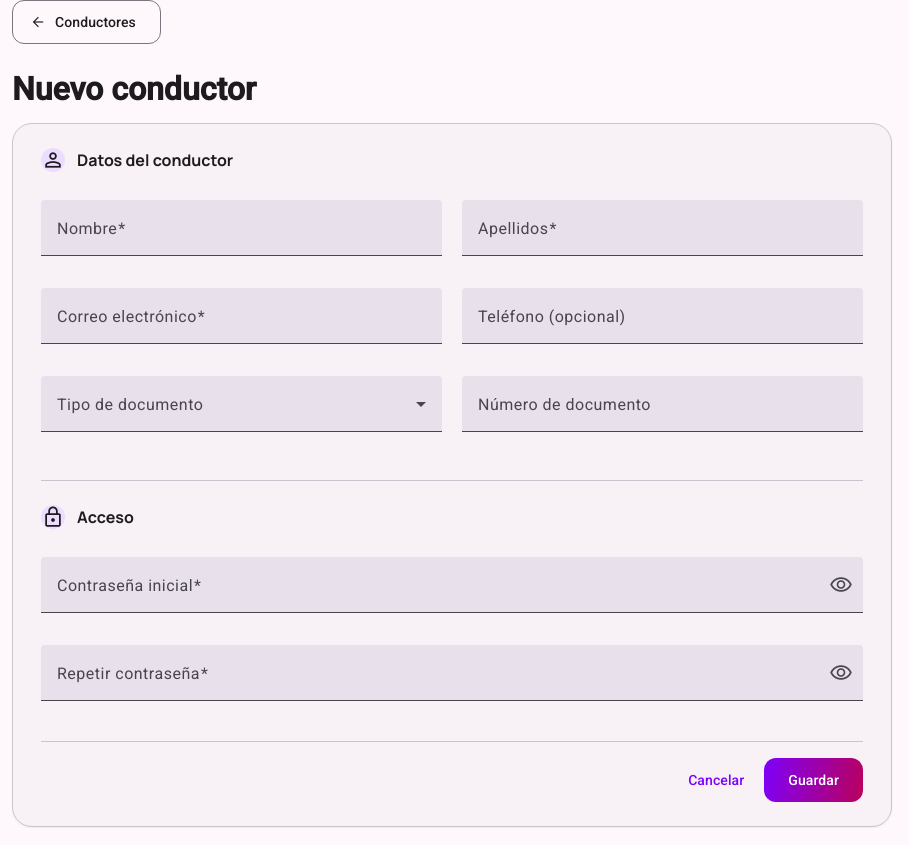
Test: DriverFormComponent › alta › sin repetir la contraseña no se envía
The width and height of the screenshot is (909, 845).
Type "Postman" into the field named "firstName" at coordinates (242, 236), box [57, 224, 426, 248]
Type "Driver" into the field named "lastName" at coordinates (662, 236), box [478, 224, 847, 248]
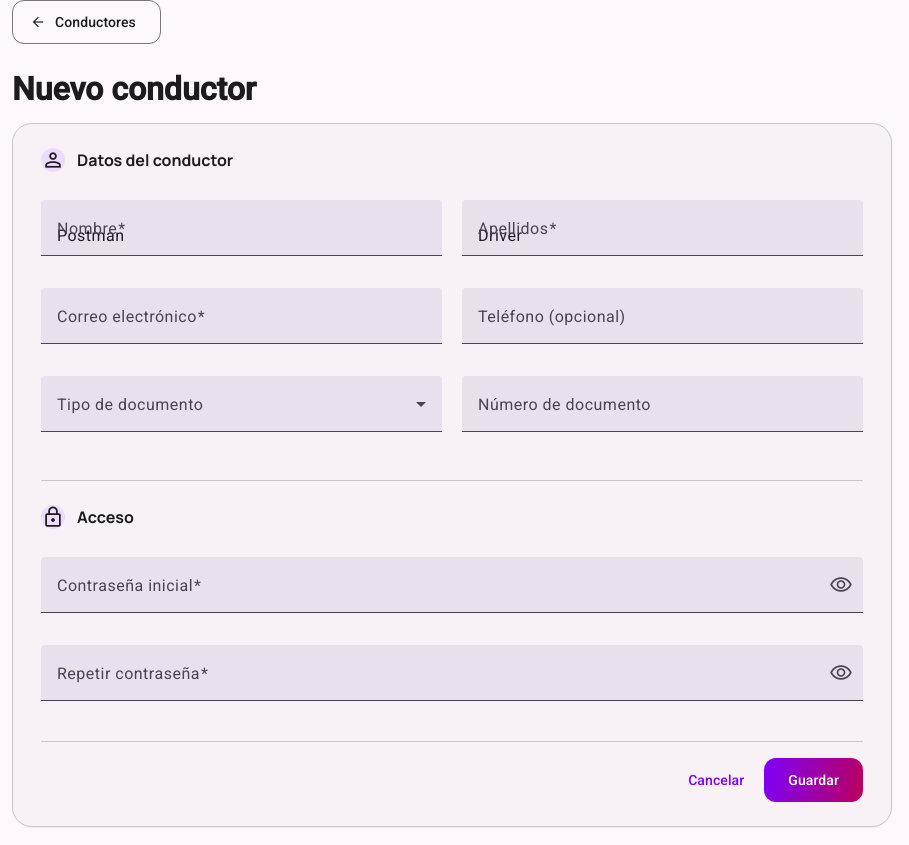
Type "driver-postman-5f6f1325079242c7807dd3c411677b3c@example.invalid" into the field named "email" at coordinates (242, 324), box [57, 312, 426, 336]
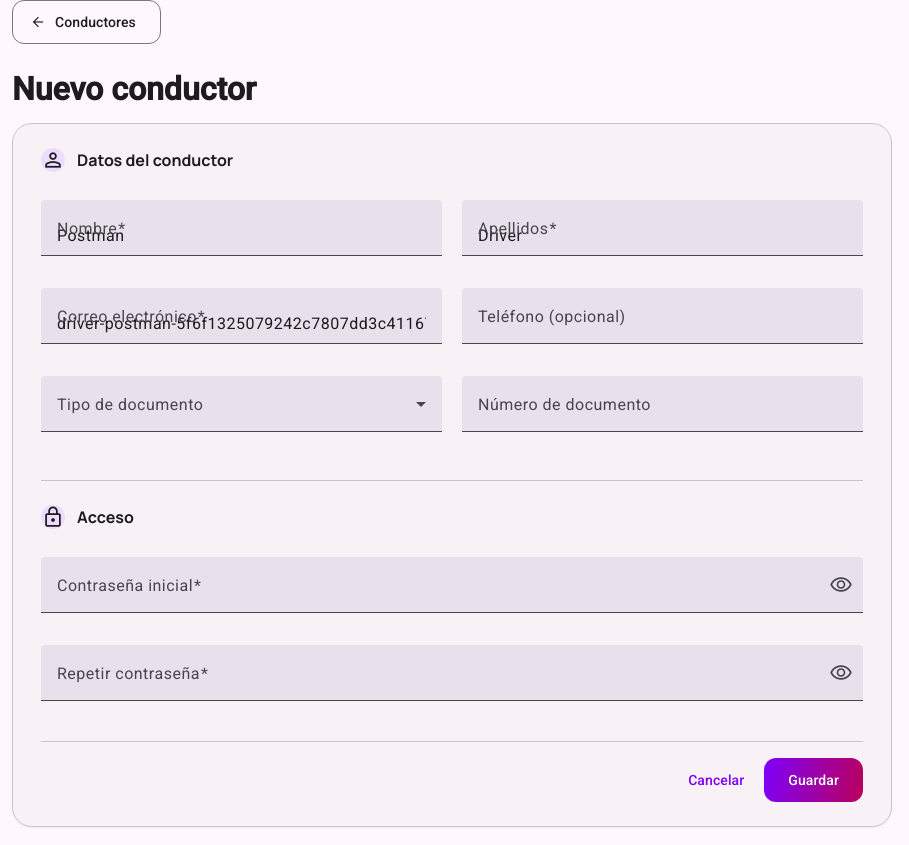
Type "contraseña-ficticia" into the password field labelled "Contraseña inicial" at coordinates (436, 593), box [57, 581, 815, 605]
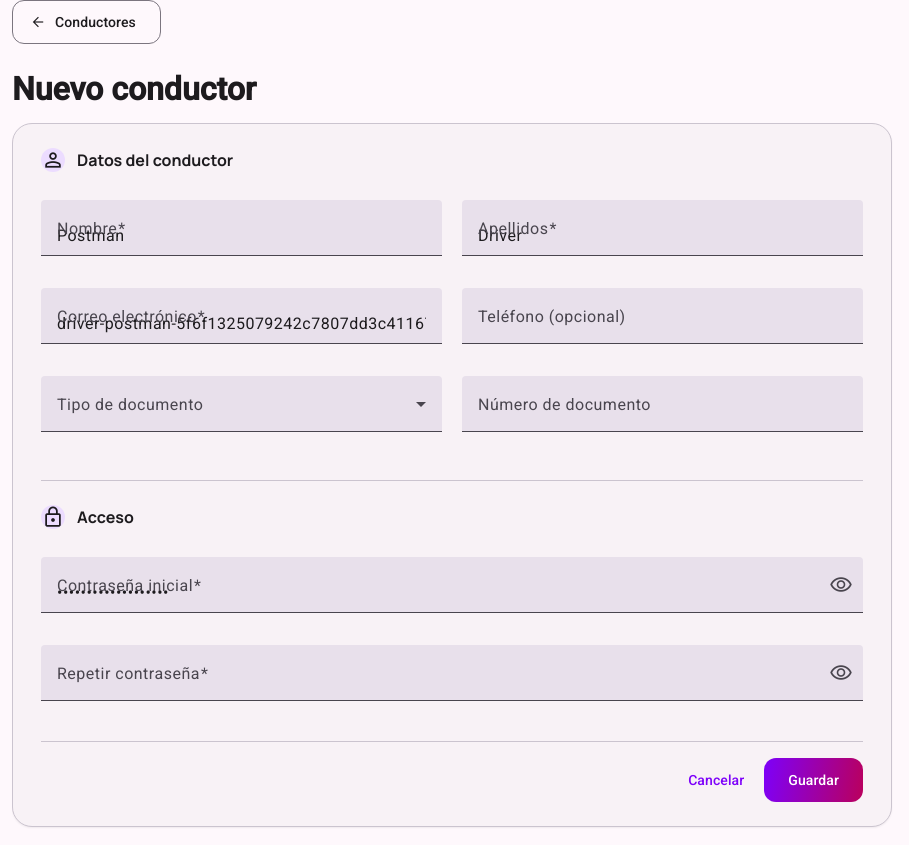
Type "contraseña-ficticia" into the password field labelled "Repetir contraseña" at coordinates (436, 681), box [57, 669, 815, 693]
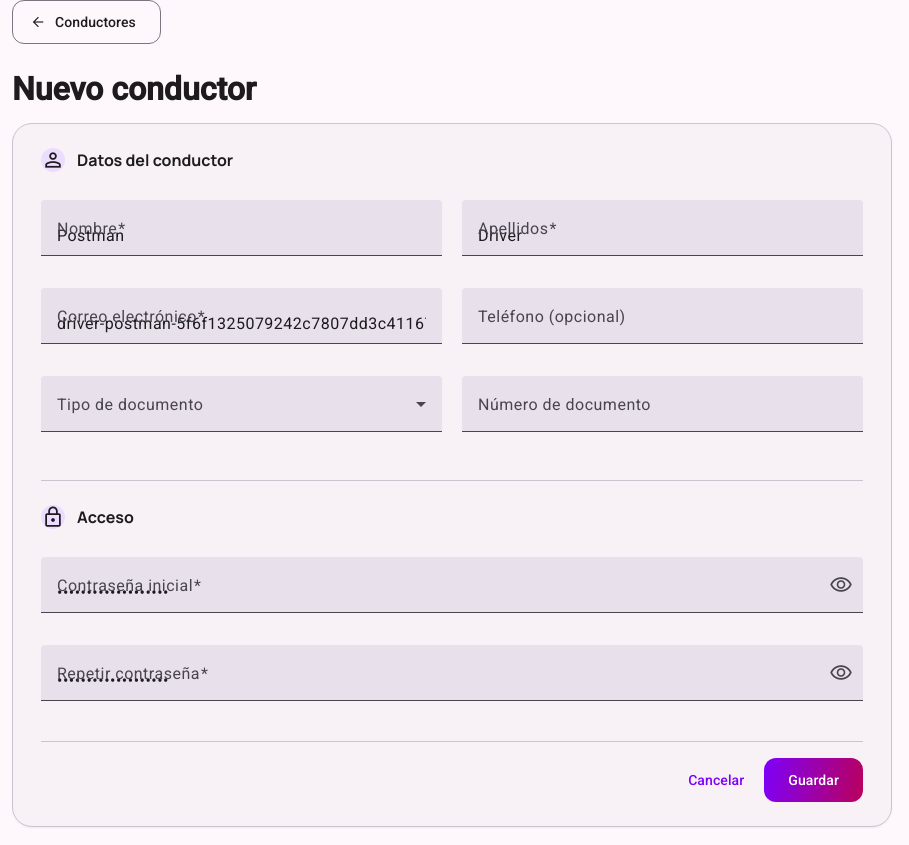
Clear the password field labelled "Repetir contraseña" at coordinates (436, 681), box [57, 669, 815, 693]
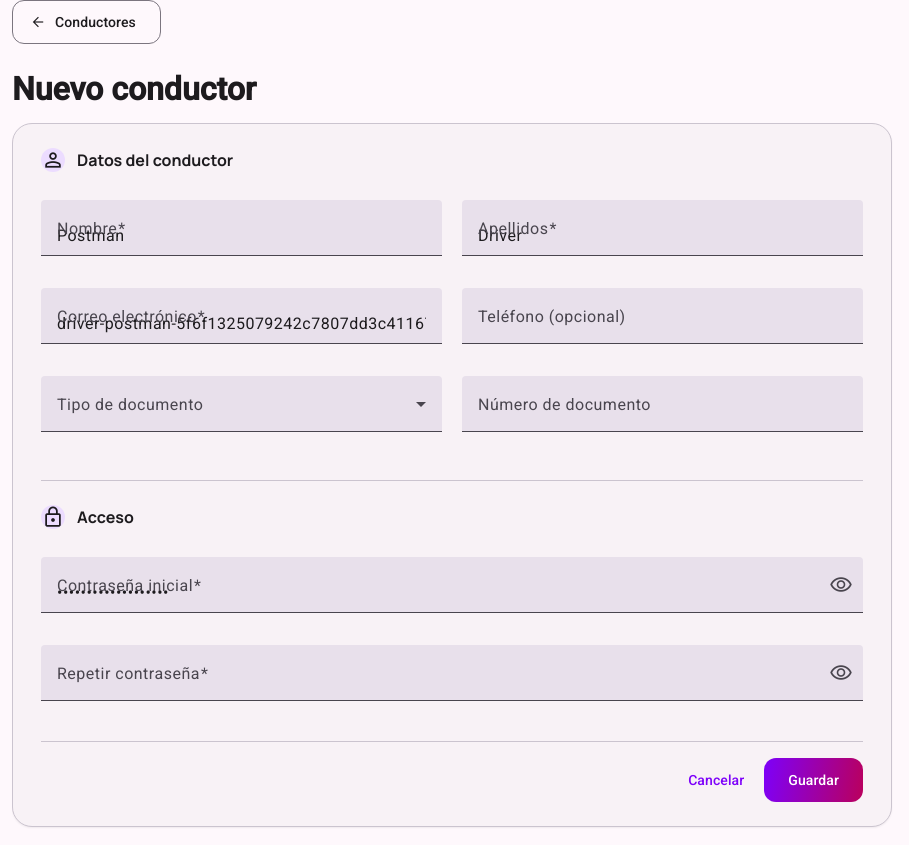
Submit the form
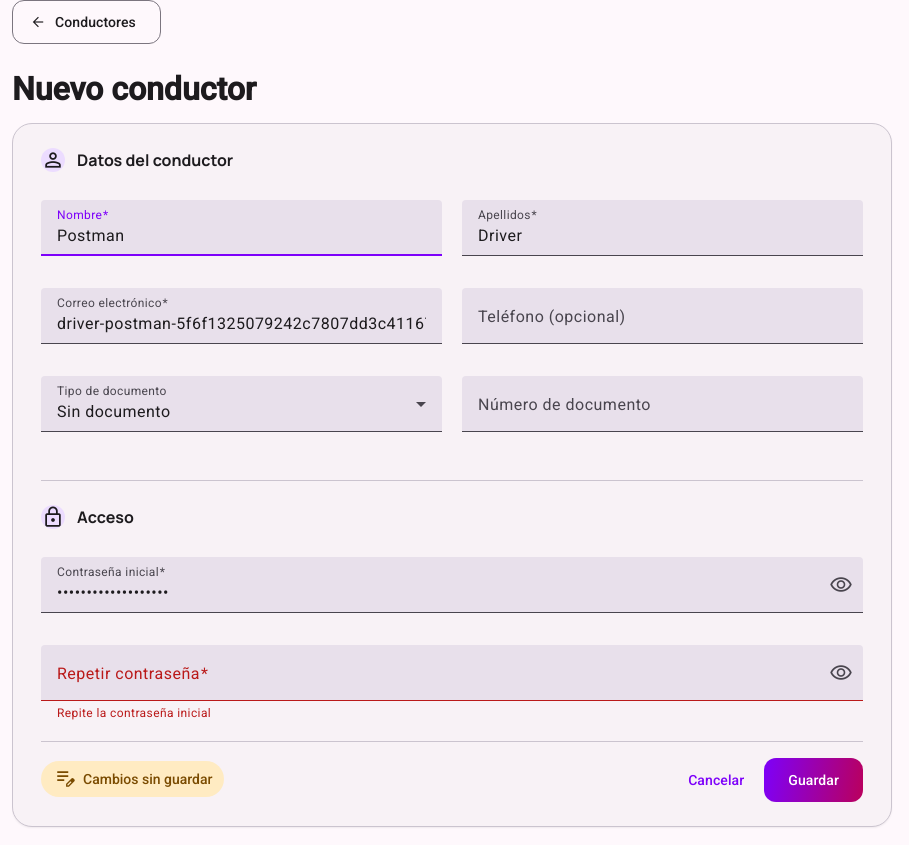
Now the text "Repite la contraseña inicial" is shown, box [57, 706, 211, 720]
